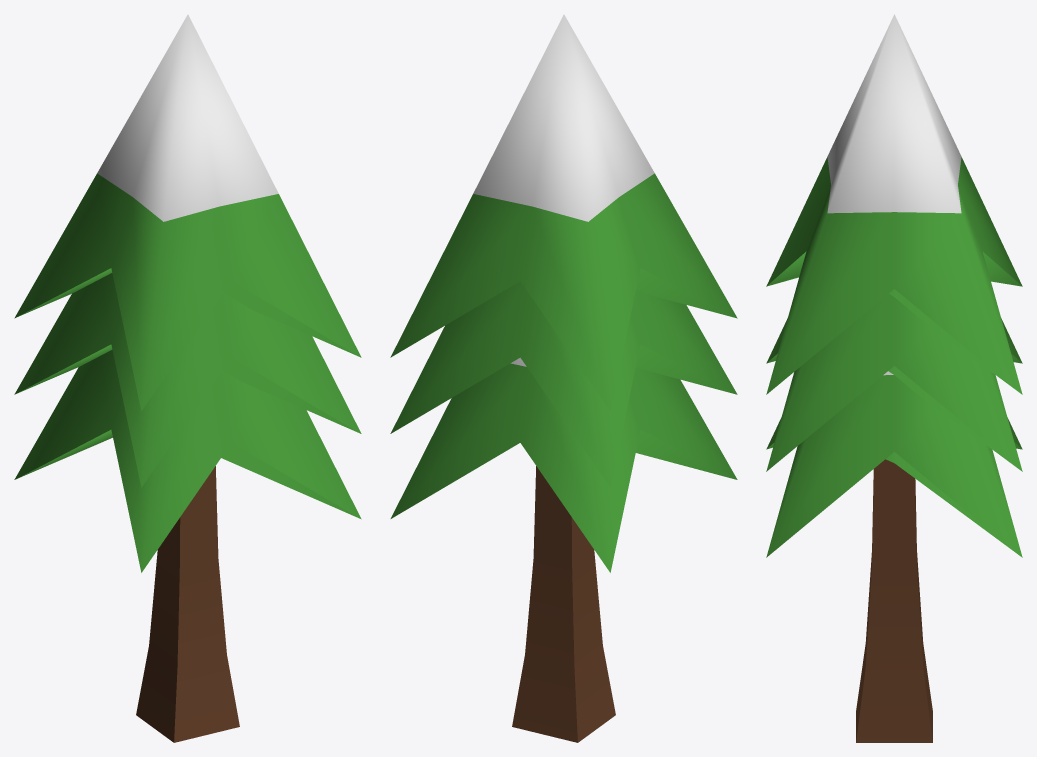
Rendered from Boom.fbx.
3 views of the same model, side by side, from view 1: azimuth 30°, elevation 25°; view 2: azimuth 150°, elevation 25°; view 3: azimuth 270°, elevation 25° (orthographic).
Parts seen in each view (by area): view 1: Boom; view 2: Boom; view 3: Boom.
Boxes of the visible parts, x1,y1,x2,y2 form: Boom: (14,14,361,742); Boom: (390,14,737,742); Boom: (766,14,1022,742).
Bounding box in the file's own units: 1.47 × 4.52 × 1.47.
